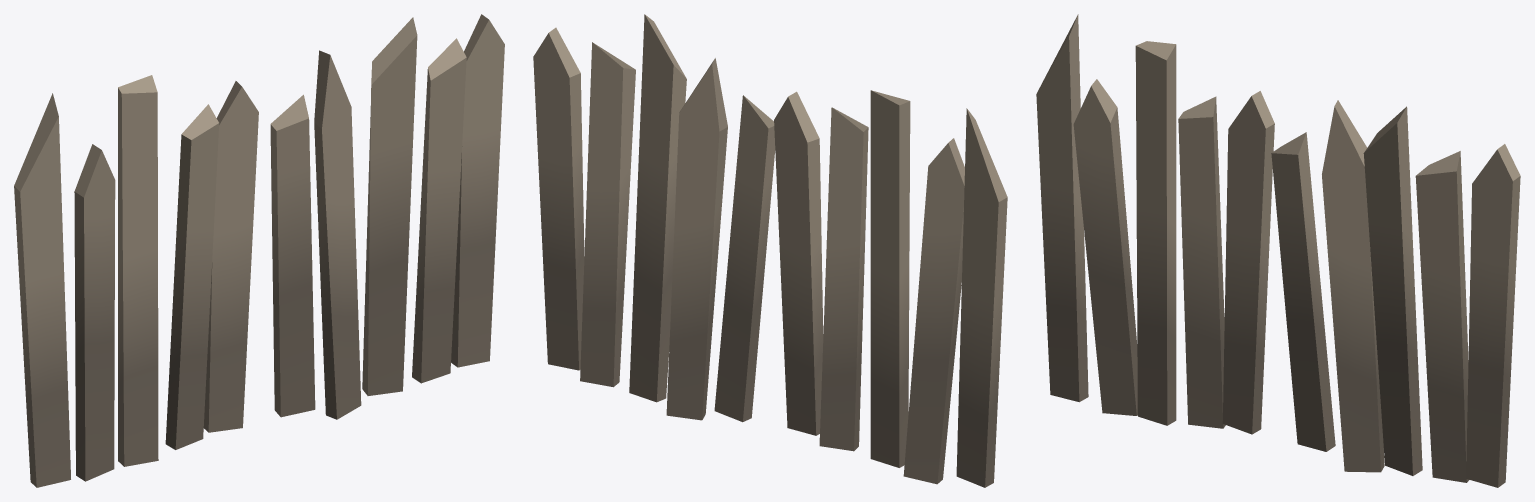
Rendered from Fence Wood V5 1.glb.
The picture shows the model from 3 angles, left to right: view 1: azimuth 30°, elevation 25°; view 2: azimuth 150°, elevation 25°; view 3: azimuth 330°, elevation 25°; orthographic projection. The views are drawn at different scales.
Parts seen in each view (by area): view 1: Fence Wood V5 1; view 2: Fence Wood V5 1; view 3: Fence Wood V5 1.
Part boxes in pixels (x1=…): Fence Wood V5 1: x1=14, y1=14, x2=504, y2=487; Fence Wood V5 1: x1=533, y1=14, x2=1007, y2=487; Fence Wood V5 1: x1=1036, y1=14, x2=1520, y2=487.
Size of what is drawn, in the model's own units: 2 by 1.56 by 0.1994.
Materials: 1 (1 with a texture image).
